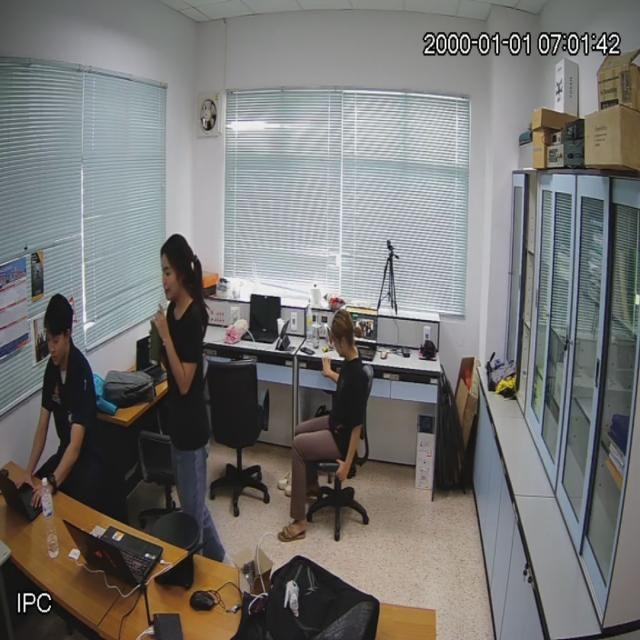normal: (150, 231, 220, 555), (293, 313, 365, 545), (32, 294, 106, 508)
